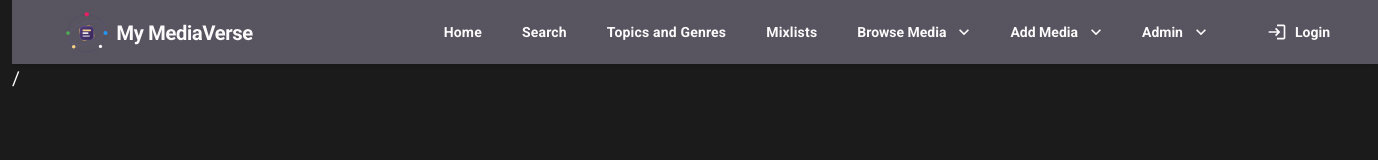
ResponsiveNavigation › desktop › routes when a nav link is clicked
What coordinates should you click on to do the following:
click the link "Search"
I would click on:
 (544, 32)
Its box is [522,24,567,40].
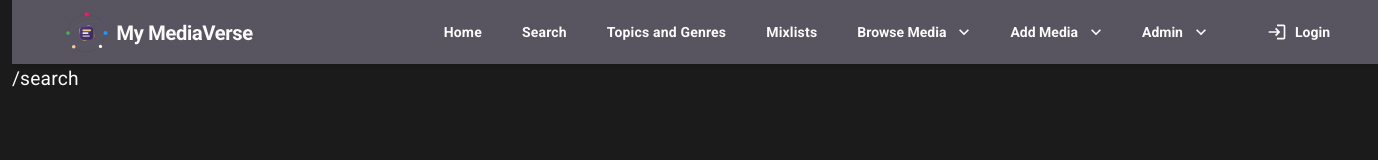
Expected: the text with test id "location" reads "/search", [12,67,79,90]
